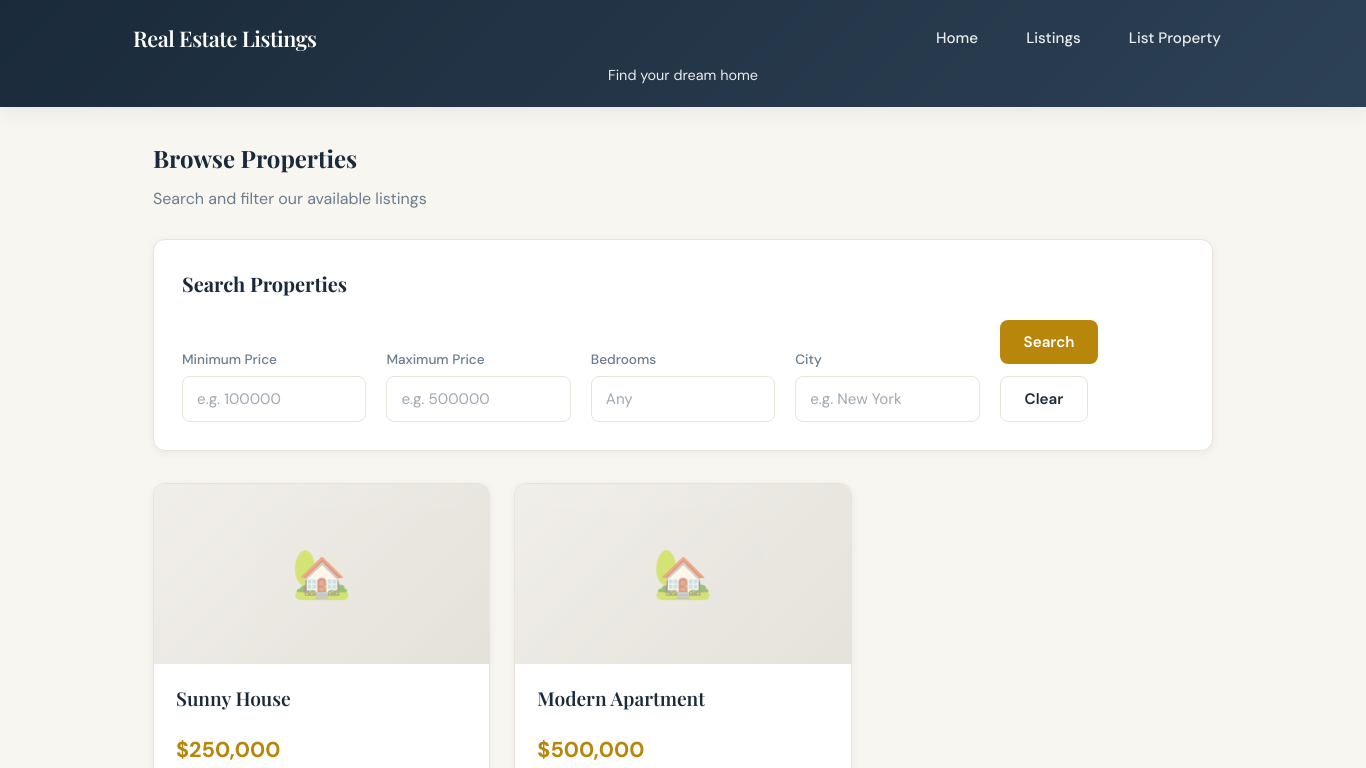
App integration tests › propertyFilteringTest: filters properties by criteria
The image size is (1366, 768).
Check: the heading "Sunny House" is shown, box [176,685,291,711]
// Open filter
Type "200000" into the number field labelled "Minimum Price".
click(274, 399); type("200000")  # box [182,376,366,422]
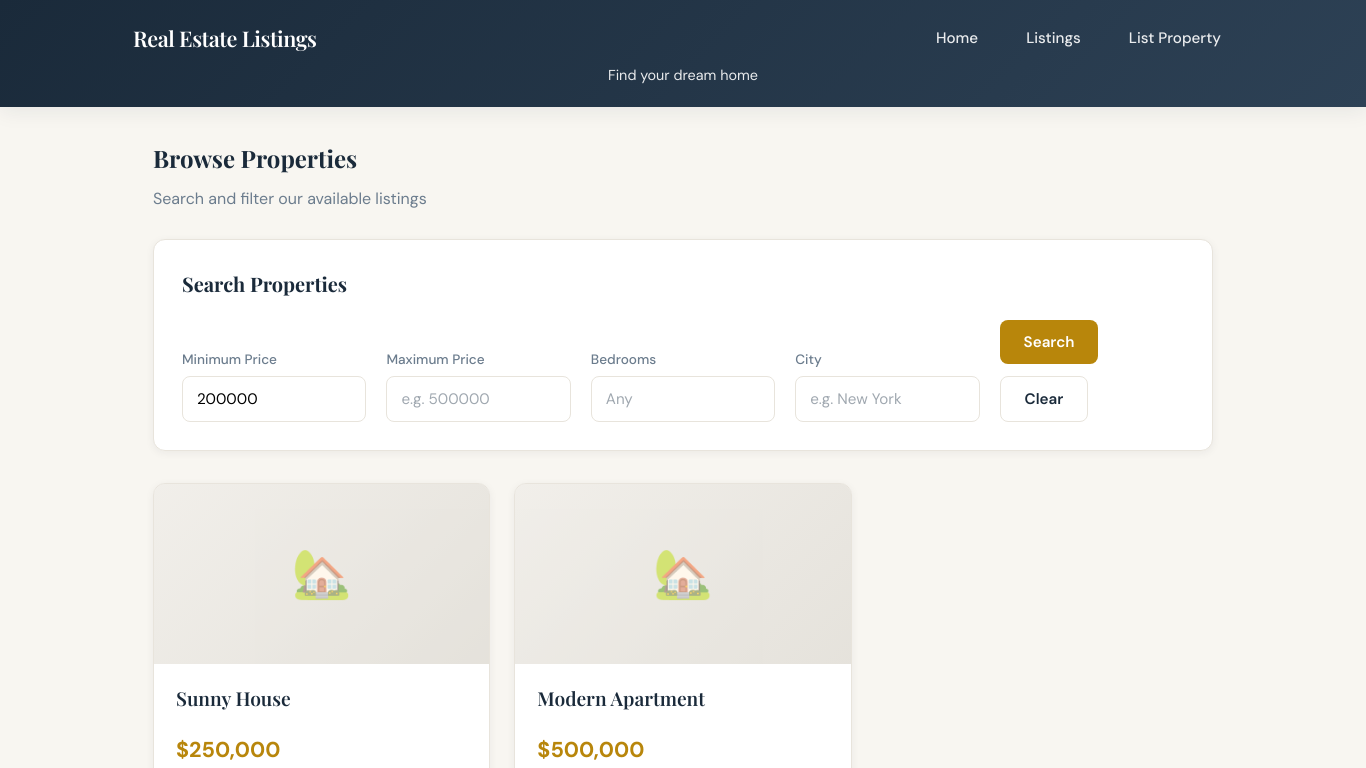
Type "550000" into the number field labelled "Maximum Price".
click(479, 399); type("550000")  # box [386,376,571,422]
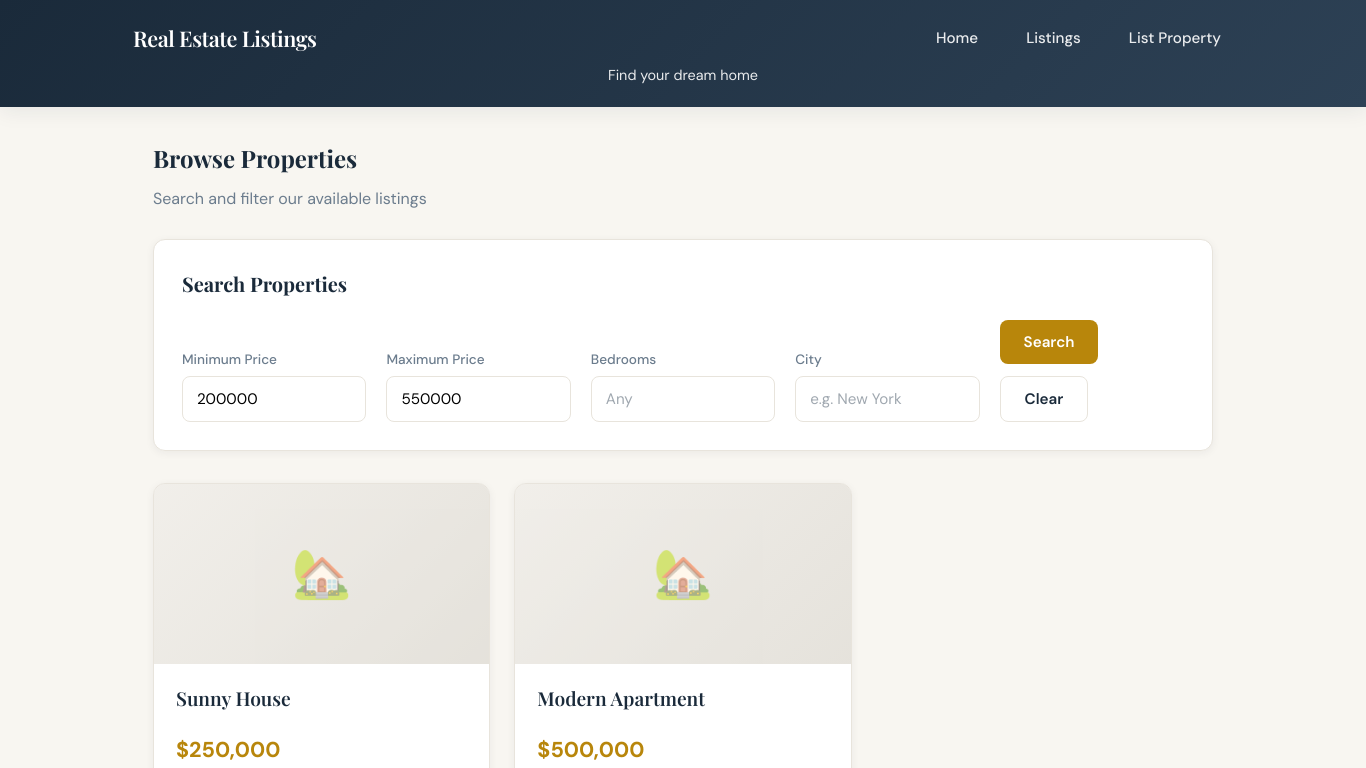
Type "3" into the number field labelled "Bedrooms".
click(683, 399); type("3")  # box [591,376,775,422]
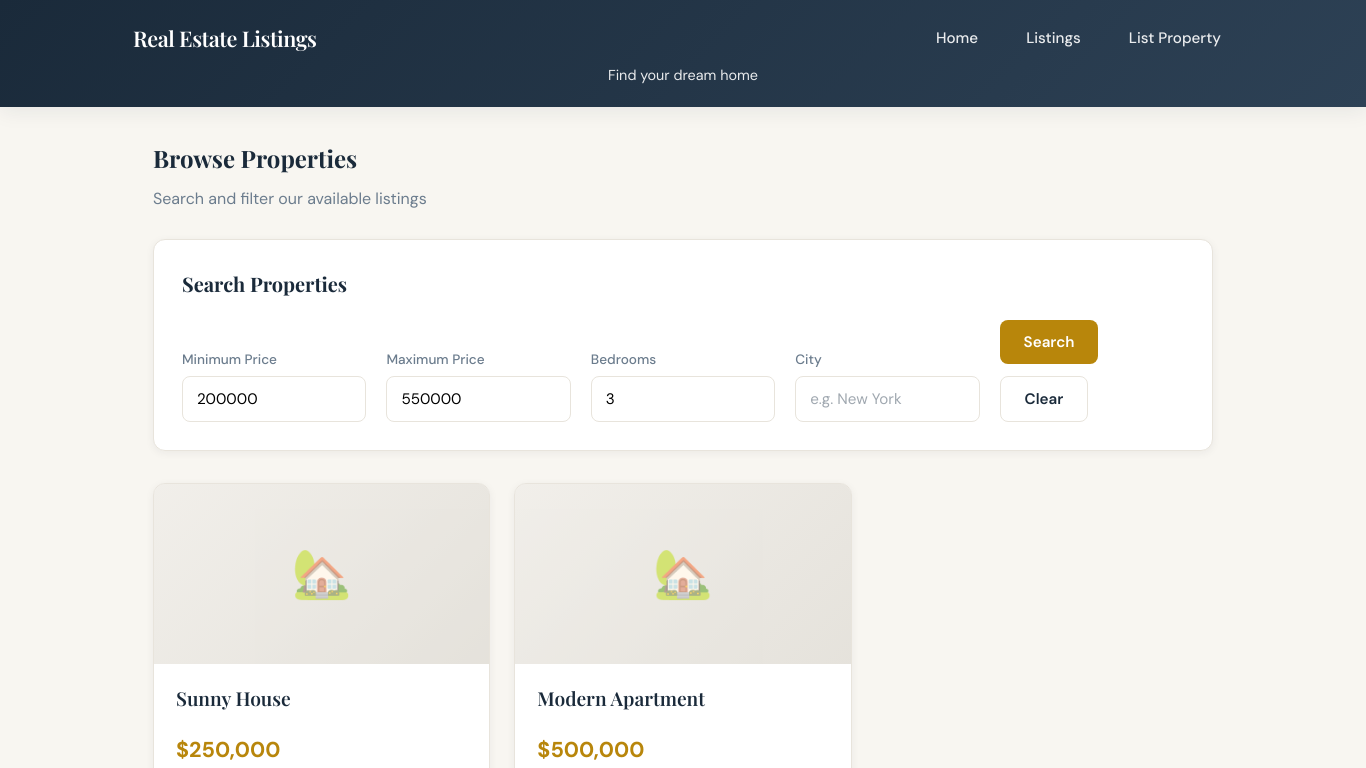
Type "New York" into the field labelled "City".
click(887, 399); type("New York")  # box [795,376,980,422]
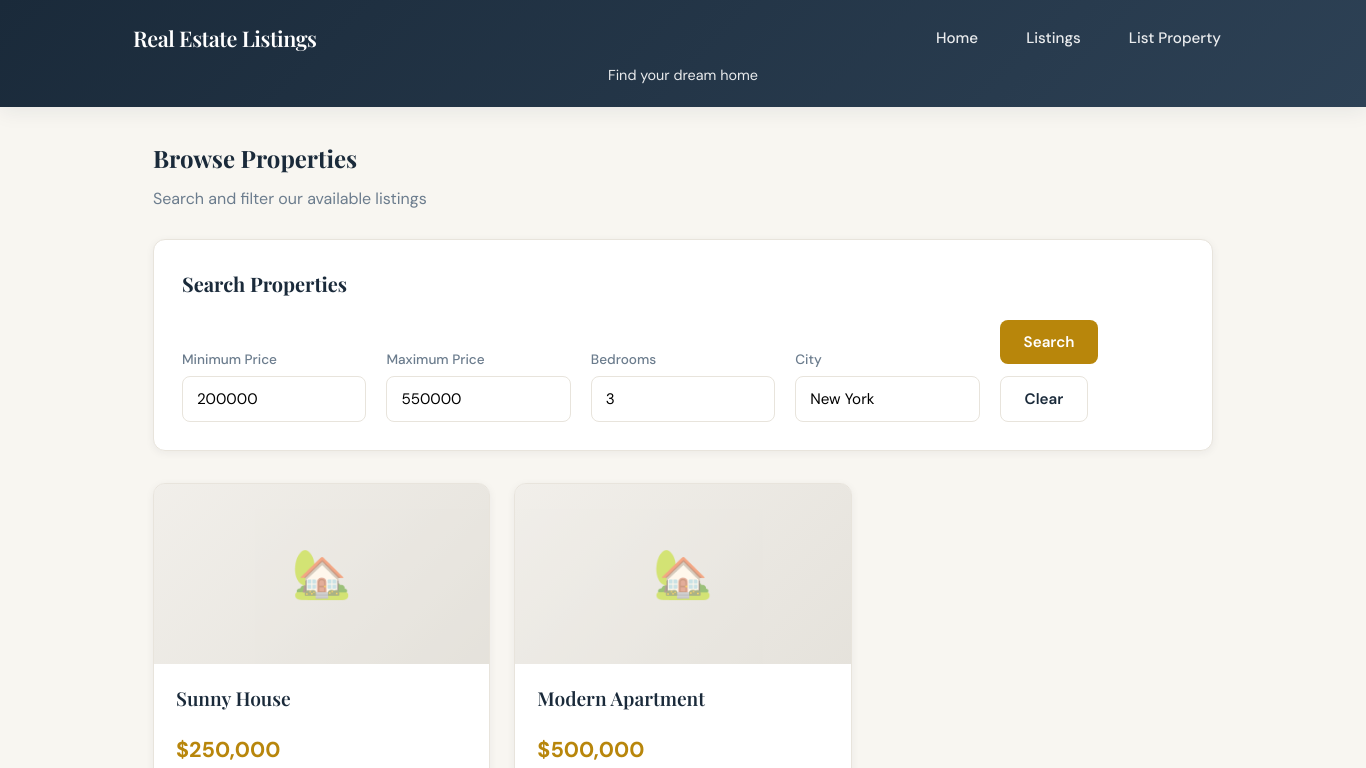
Click the button with test id "filter-button".
click(1049, 342)  # box [1000,320,1098,364]
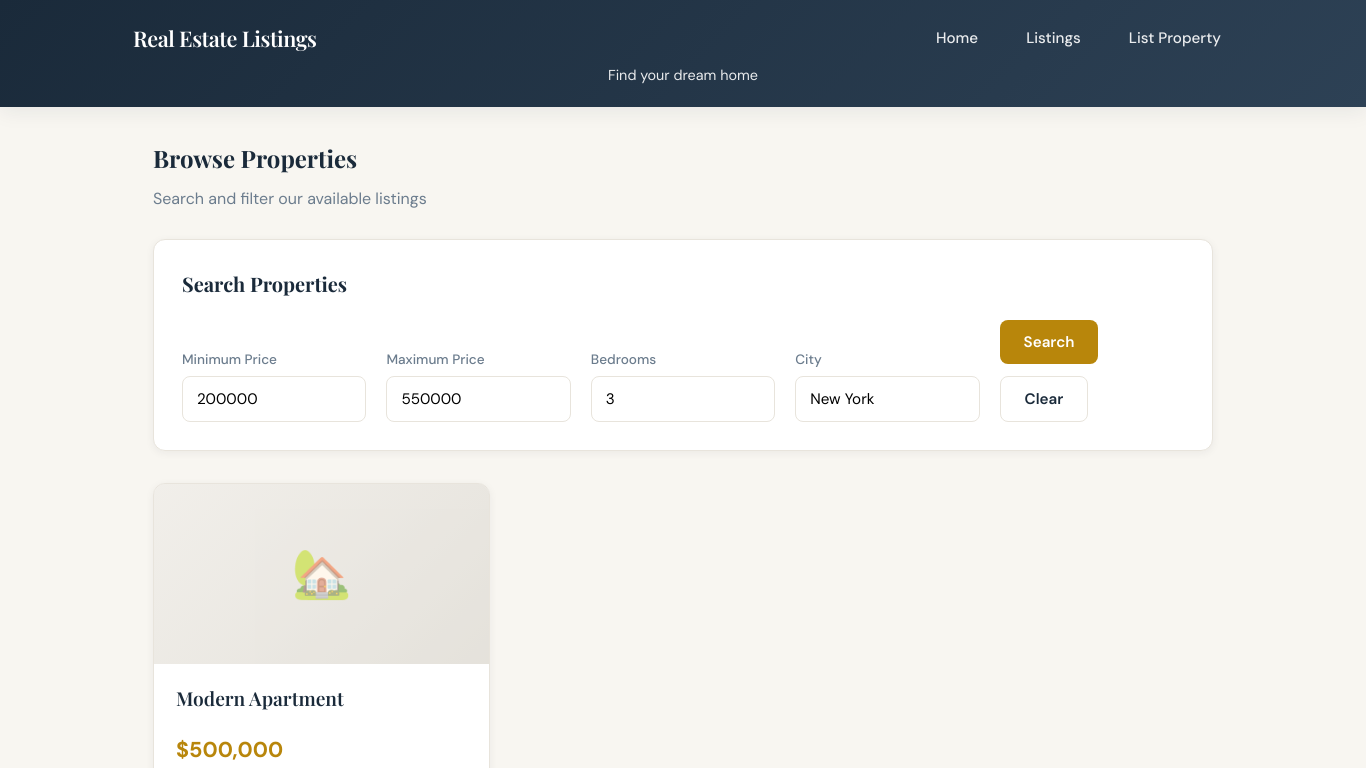
Check: the heading "Modern Apartment" is shown, box [176,685,344,711]
Check: the heading "Sunny House" is gone
